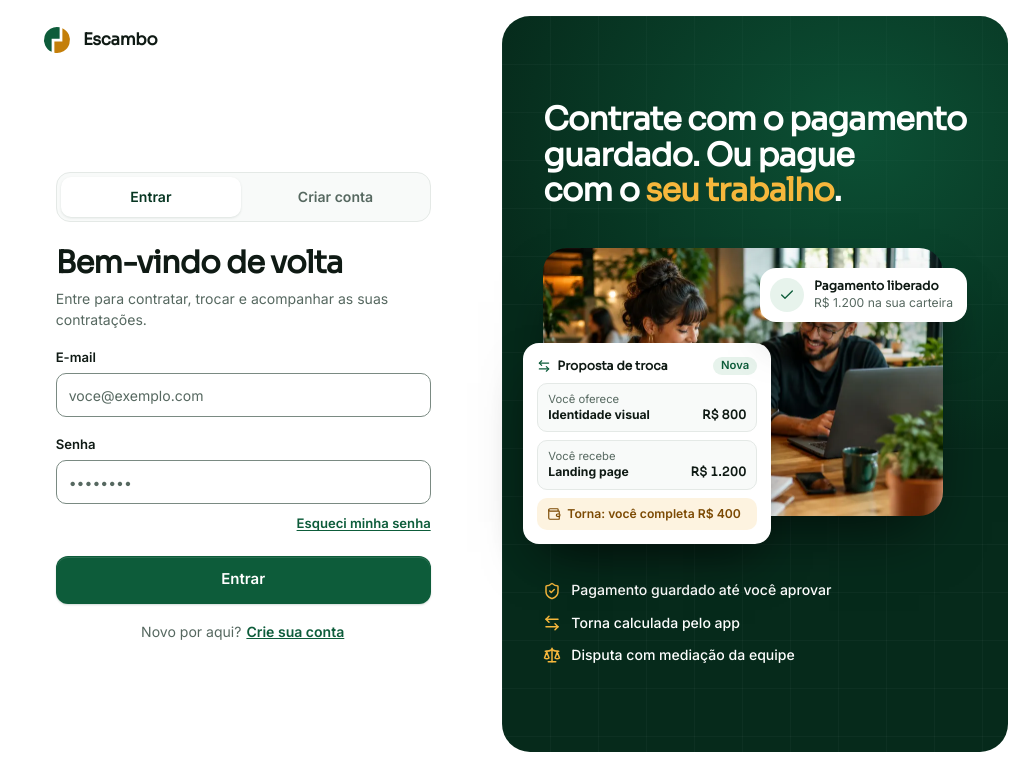
Test: LoginForm: entrar › enquanto entra, o botão mostra "…" desabilitado e volta ao normal no fim
Type "ana@escambo.test" into the field labelled "E-mail".
click(243, 395); type("ana@escambo.test")  # box left=56, top=373, right=431, bottom=417
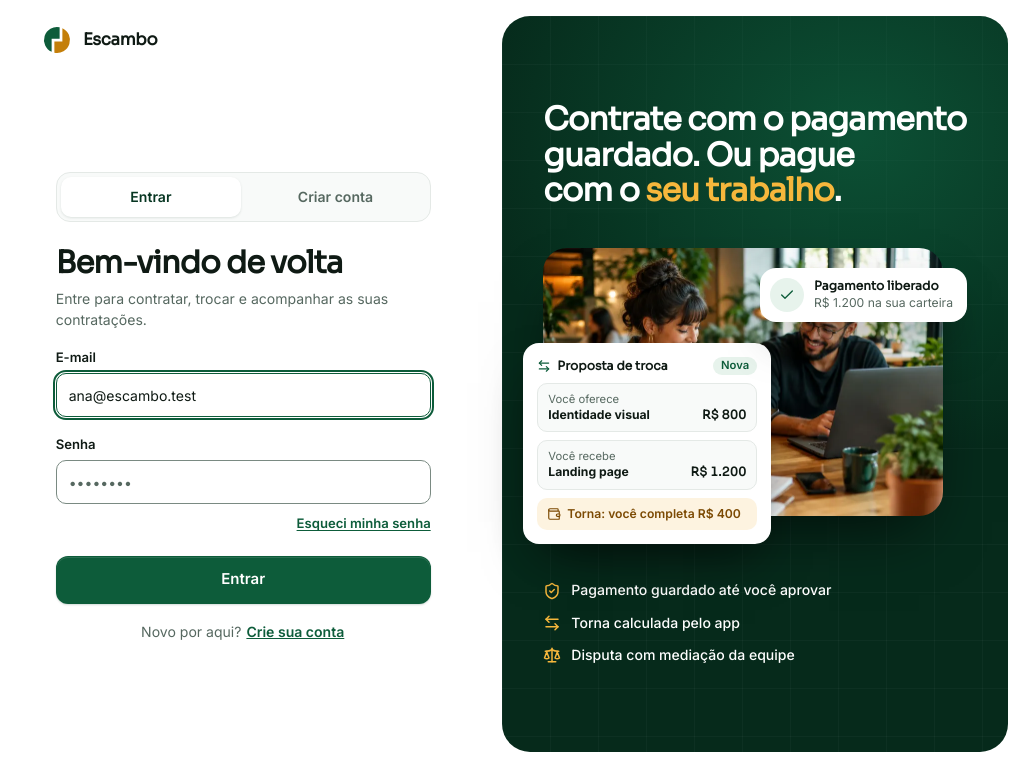
Type "segredo123" into the password field labelled "Senha".
click(243, 482); type("segredo123")  # box left=56, top=460, right=431, bottom=504
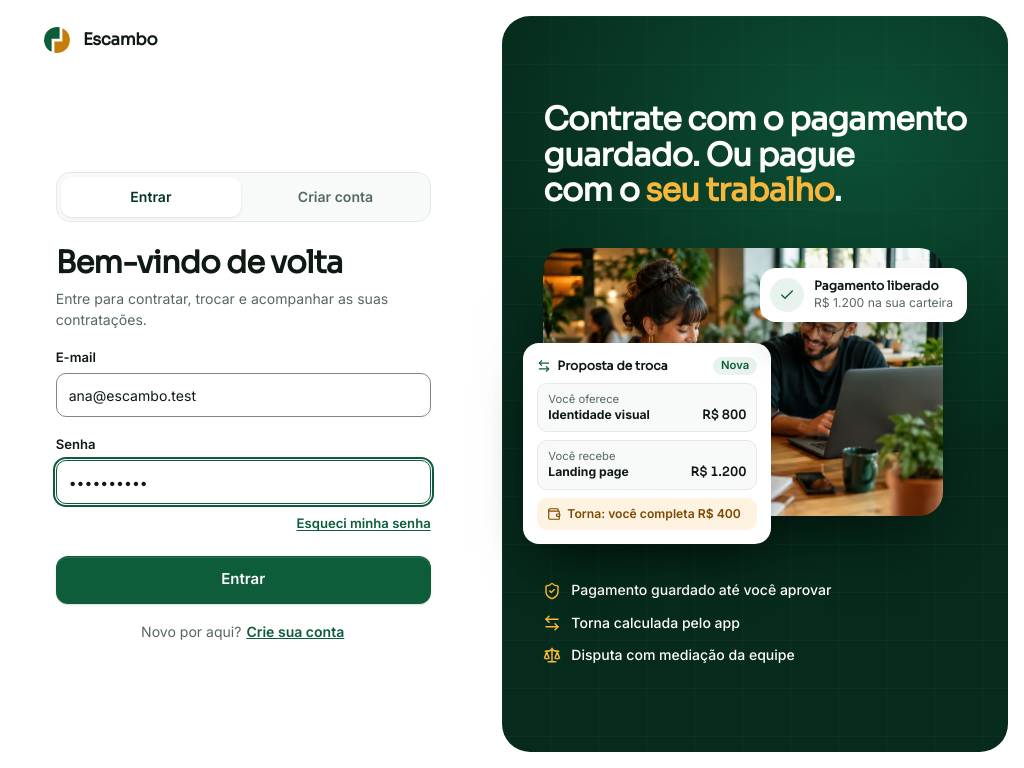
Click the 2nd button "Entrar".
click(243, 580)  # box left=56, top=556, right=431, bottom=604
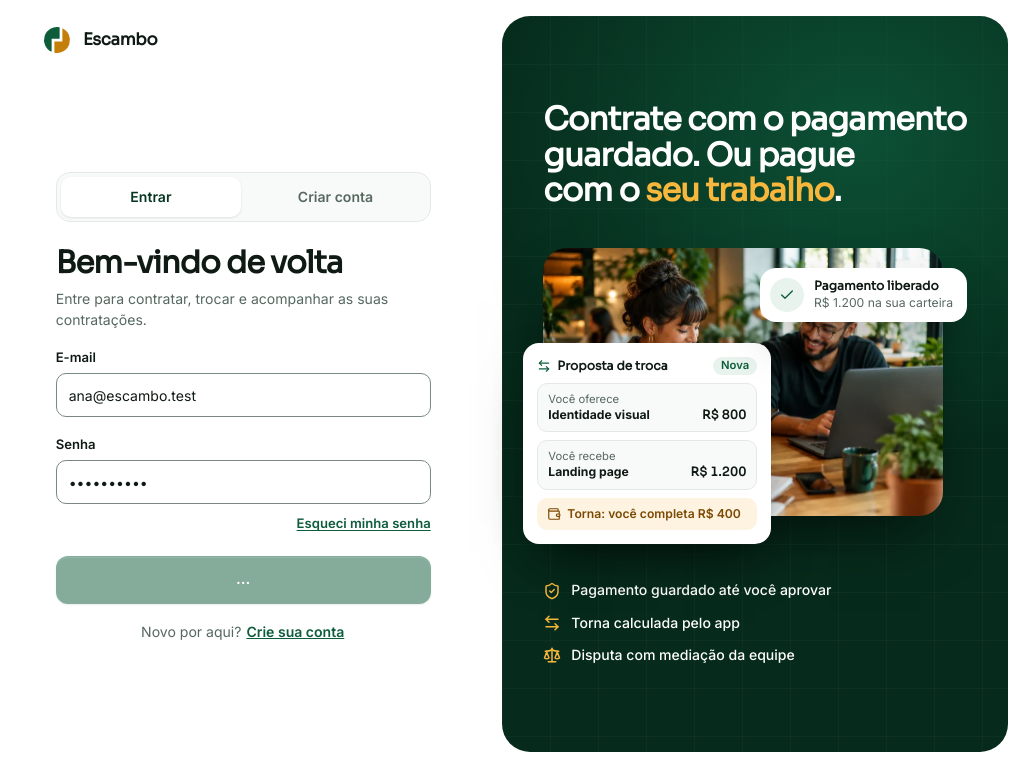
Expected: the button "…" is shown
Expected: the button "…" is disabled
Click the button "…".
click(243, 580)  # box left=56, top=556, right=431, bottom=604
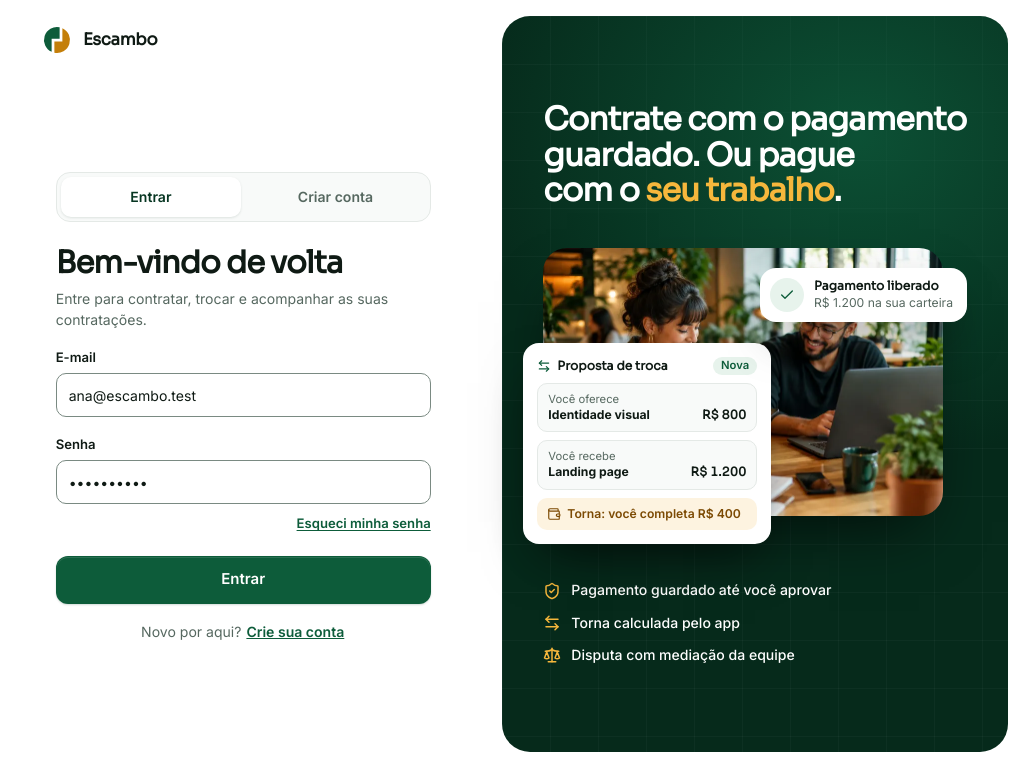
Expected: the heading "Bem-vindo de volta" is shown, left=56, top=243, right=342, bottom=282
Expected: the 2nd button "Entrar" is enabled, left=56, top=556, right=431, bottom=604
Expected: the 2nd button "Entrar" is shown, left=56, top=556, right=431, bottom=604
